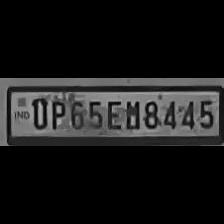4: (160, 97, 178, 129), (178, 97, 196, 128)
5: (86, 98, 104, 130), (197, 96, 215, 128)
6: (66, 97, 86, 129)
8: (141, 97, 159, 129)
E: (104, 98, 122, 130)
M: (122, 98, 140, 130)
P: (48, 96, 66, 130)
U: (28, 94, 48, 130)
